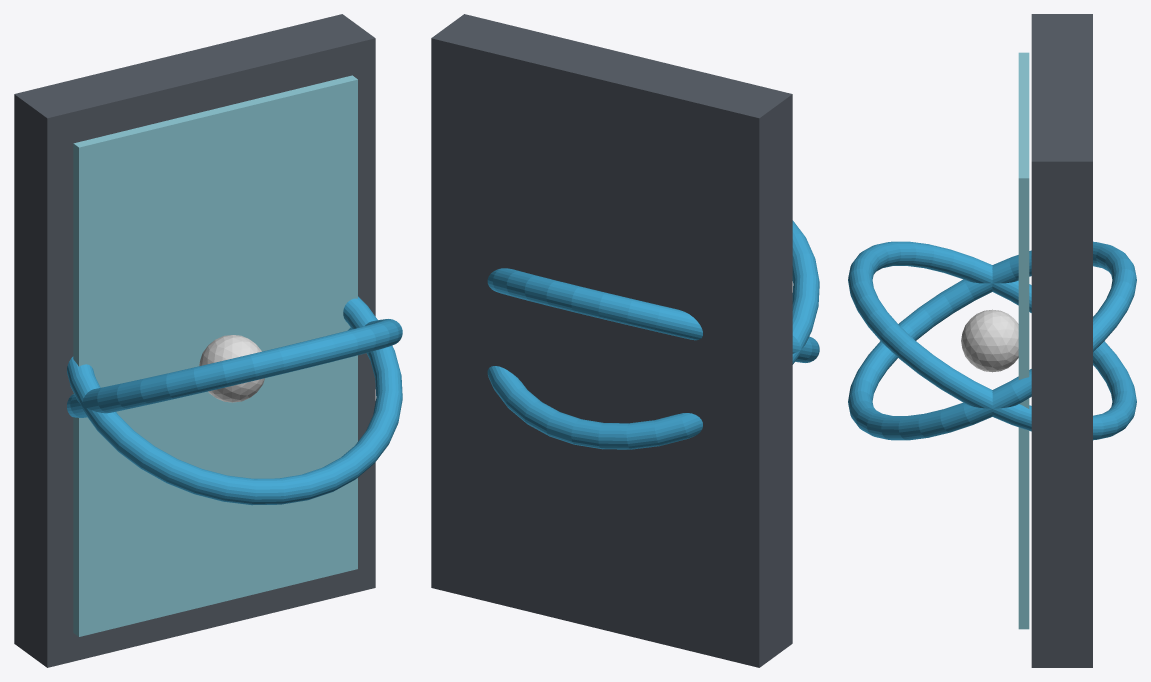
File: reactnative-icon.glb
3 renders of one model, left to right at view 1: azimuth 30°, elevation 25°; view 2: azimuth 150°, elevation 25°; view 3: azimuth 270°, elevation 25°, orthographic. The views are drawn at different scales.
Parts seen in each view (by area): view 1: m1, m0, m3, m2, m4; view 2: m0, m2, m3; view 3: m0, m2, m3, m1, m4.
Boxes of the visible parts, x1=… form: m1: x1=73, y1=75, x2=357, y2=636; m0: x1=14, y1=14, x2=375, y2=667; m3: x1=67, y1=296, x2=402, y2=505; m2: x1=67, y1=319, x2=402, y2=417; m4: x1=199, y1=335, x2=264, y2=402; m0: x1=431, y1=14, x2=792, y2=667; m2: x1=487, y1=220, x2=819, y2=449; m3: x1=487, y1=268, x2=819, y2=362; m0: x1=1031, y1=14, x2=1092, y2=667; m2: x1=848, y1=241, x2=1136, y2=440; m3: x1=848, y1=241, x2=1136, y2=440; m1: x1=1018, y1=52, x2=1029, y2=629; m4: x1=961, y1=309, x2=1018, y2=372.
Size of the model in its own units: 2 by 3.2 by 1.65.
